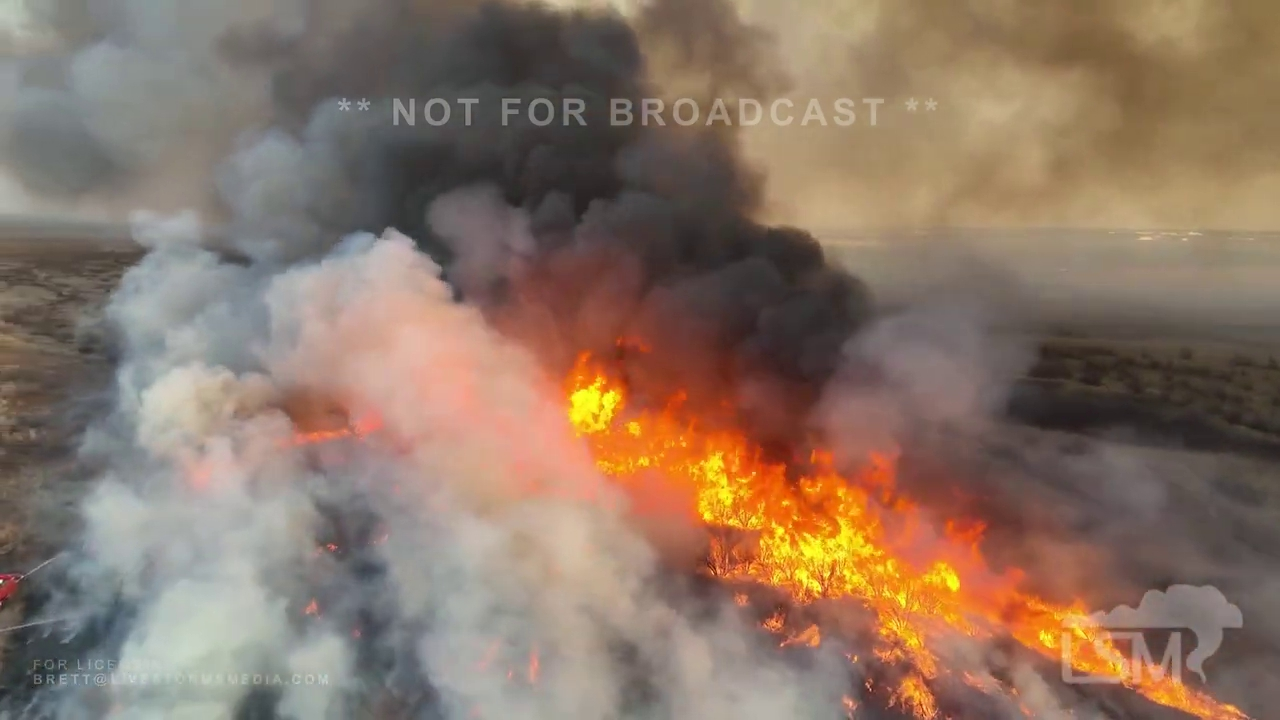forest_fire: (568, 355, 1250, 719), (763, 610, 821, 646)
